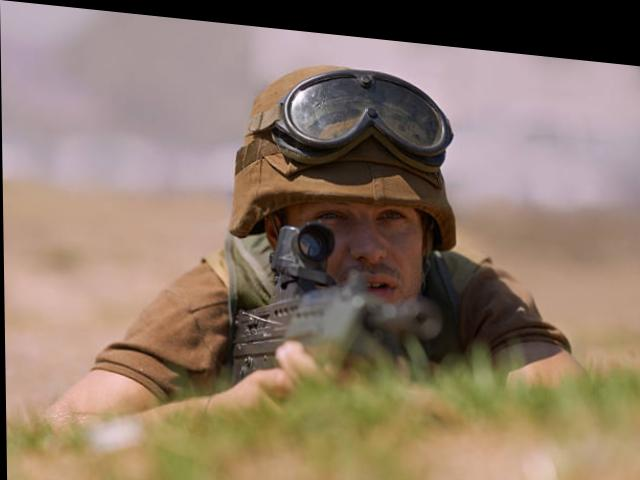other: (59, 31, 582, 463)
